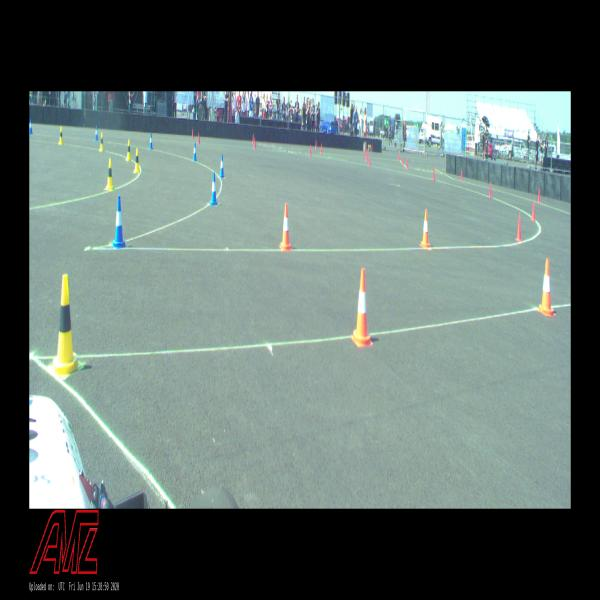blue_cone: (112, 196, 126, 247), (210, 172, 218, 206), (219, 154, 225, 178), (193, 142, 197, 161), (149, 132, 153, 150), (94, 124, 98, 141), (30, 118, 32, 134)
orange_cone: (351, 268, 372, 348), (538, 259, 556, 317), (280, 203, 292, 250), (420, 209, 430, 248)
unknown_cone: (515, 213, 522, 242), (531, 198, 535, 222), (488, 181, 492, 199), (432, 167, 435, 181), (460, 168, 463, 181), (368, 154, 371, 167), (309, 145, 312, 156), (538, 188, 540, 203), (406, 157, 408, 170), (254, 137, 256, 149), (401, 156, 404, 164), (252, 133, 254, 145), (198, 133, 200, 144), (192, 128, 194, 139), (366, 150, 368, 161), (315, 140, 317, 150), (398, 152, 400, 161), (321, 143, 322, 153), (365, 148, 366, 158)
yellow_cone: (51, 273, 82, 378), (105, 158, 114, 190), (133, 148, 140, 174), (126, 140, 132, 160), (58, 126, 63, 145), (99, 132, 104, 151)
